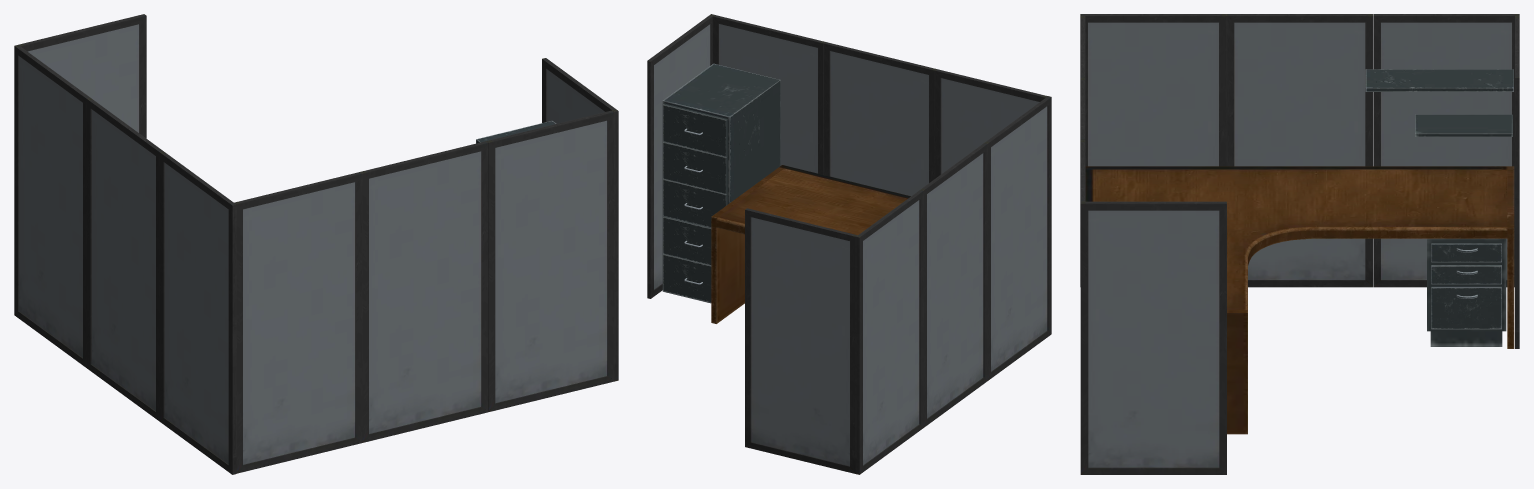
File: scene-desk.glb
3 views of the same model, side by side, from view 1: azimuth 30°, elevation 25°; view 2: azimuth 150°, elevation 25°; view 3: azimuth 270°, elevation 25° (orthographic). The views are drawn at different scales.
Visible parts, largest first — view 1: base; view 2: base; view 3: base.
Boxes of the visible parts, <box> form: base: <box>14,14,618,474</box>; base: <box>647,14,1051,474</box>; base: <box>1080,14,1519,474</box>.
Bounding box in the file's own units: 1.6 × 1.07 × 1.57.
Materials: 2 (2 with a texture image).
